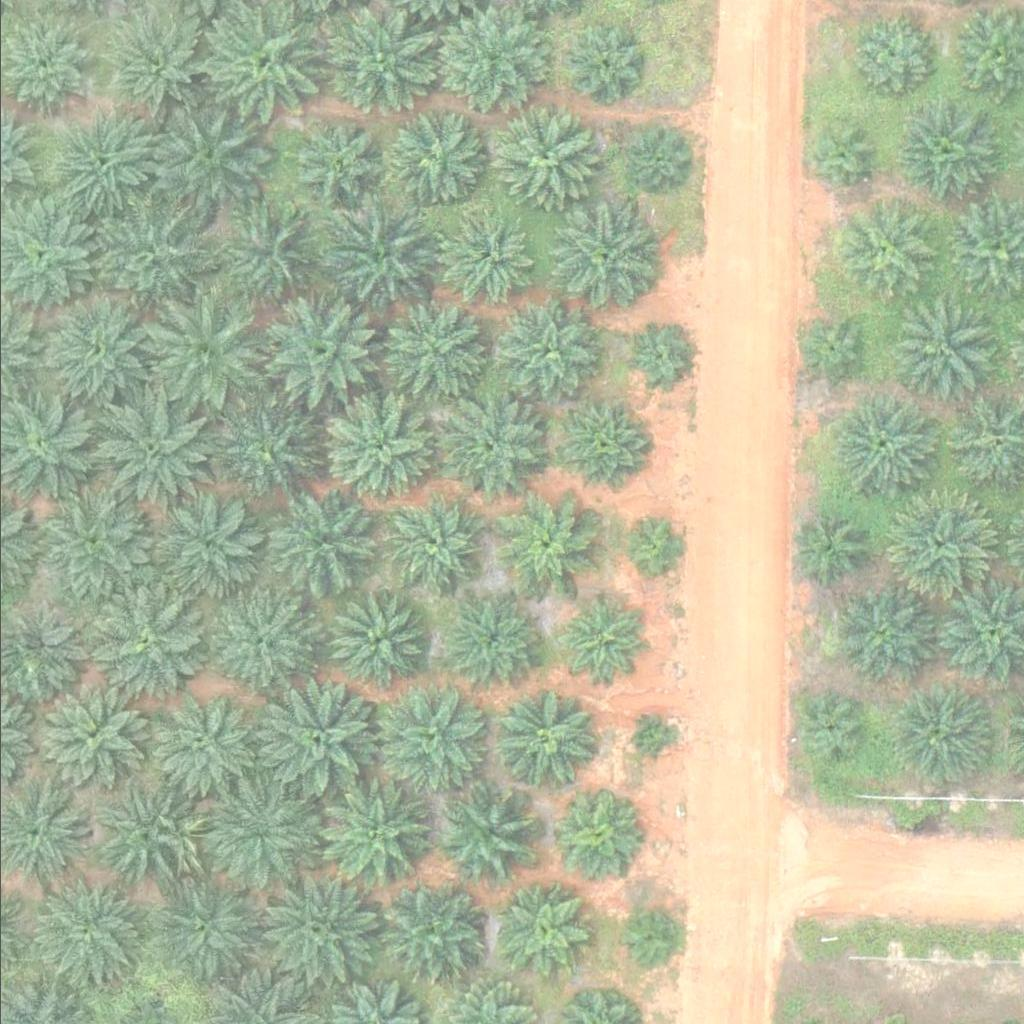Kelapa_Sawit: (143, 95, 269, 220), (323, 191, 449, 316), (204, 190, 330, 315), (88, 190, 214, 315), (254, 291, 380, 416), (136, 289, 262, 414), (88, 386, 214, 511), (250, 674, 376, 799), (193, 767, 319, 892), (251, 863, 377, 988), (34, 289, 160, 414), (312, 387, 437, 512), (81, 577, 206, 702), (32, 484, 157, 609), (314, 777, 428, 890), (373, 877, 487, 990), (434, 3, 547, 116), (147, 869, 260, 982), (30, 874, 143, 987), (98, 11, 212, 123), (876, 490, 989, 602), (380, 683, 493, 795), (144, 686, 257, 798), (95, 776, 208, 888), (831, 584, 932, 684), (833, 397, 934, 497), (895, 300, 996, 400), (834, 201, 935, 301), (892, 102, 993, 202), (496, 108, 597, 208), (381, 107, 482, 207), (555, 210, 656, 310), (434, 204, 535, 304), (498, 301, 599, 401), (386, 301, 487, 401), (441, 396, 542, 496), (214, 404, 315, 504), (494, 498, 595, 598), (379, 493, 480, 593), (265, 494, 366, 594), (161, 498, 262, 598), (442, 590, 543, 690), (326, 592, 427, 692), (210, 589, 311, 689), (38, 686, 139, 786), (890, 687, 990, 787), (286, 114, 386, 214), (498, 690, 598, 790), (440, 785, 540, 885), (55, 113, 155, 213), (847, 13, 935, 101), (555, 595, 643, 683), (500, 888, 588, 976), (558, 407, 646, 494), (546, 794, 634, 881), (792, 693, 868, 768), (800, 119, 876, 194), (566, 27, 641, 102), (787, 511, 862, 586), (793, 315, 868, 390), (624, 128, 687, 191), (626, 328, 689, 390), (625, 514, 688, 576), (613, 909, 676, 971), (630, 721, 668, 758)
